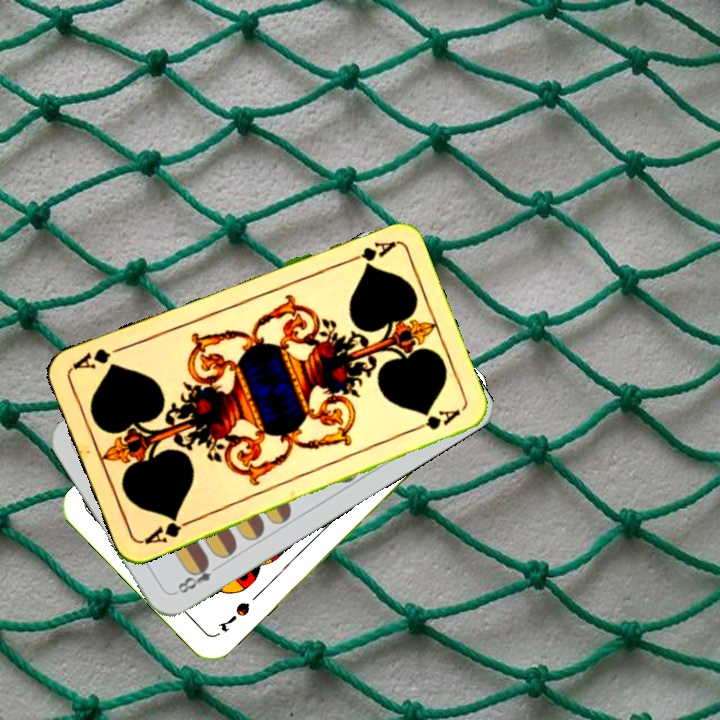E8: (170, 556, 224, 597)
GA: (139, 512, 195, 548), (340, 237, 398, 267)
S7: (213, 598, 253, 635)
